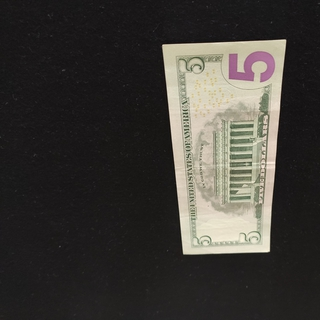5USDBack: (160, 38, 287, 256)
